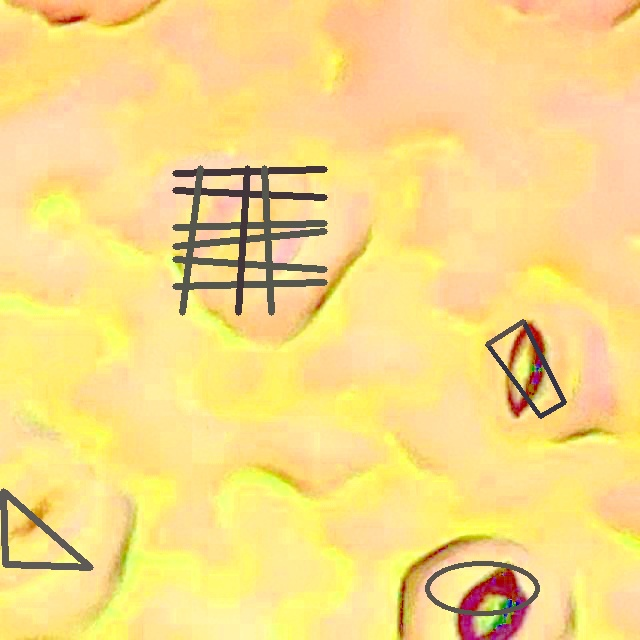open: (172, 165, 327, 315), (485, 319, 566, 418), (2, 488, 93, 569), (425, 559, 540, 617)
